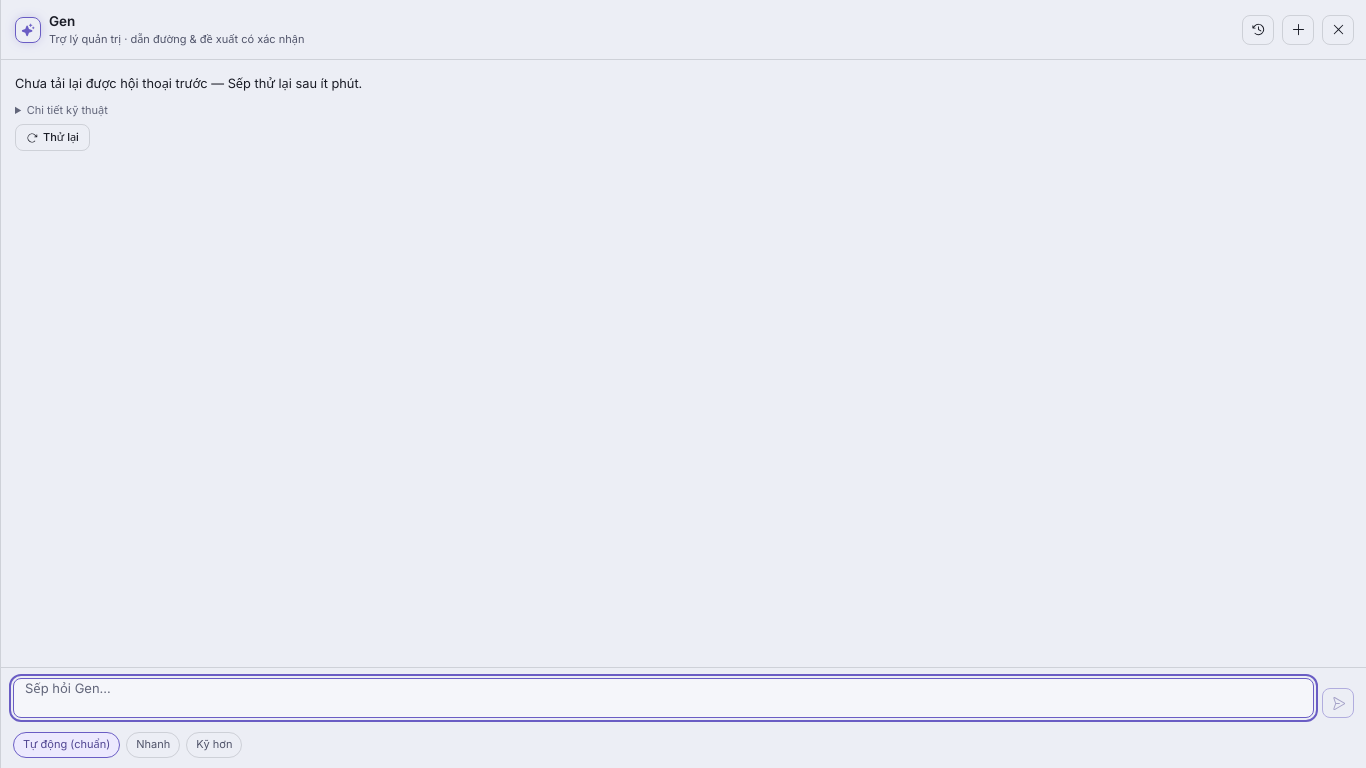
Test case: Giữ hội thoại qua tải lại trang (F-8a) › lỗi khác ⇒ câu thân thiện + Chi tiết kỹ thuật + Thử lại; câu hỏi mới không rơi vào hội thoại cũ
This screenshot has width=1366, height=768.
Expected: the text "Chưa tải lại được hội thoại trước — Sếp thử lại sau ít phút." is shown, [15, 74, 362, 93]
Expected: the heading "Chi tiết kỹ thuật" is shown, [15, 102, 108, 118]
Click the button "Thử lại": (52, 138) [15, 124, 90, 151]
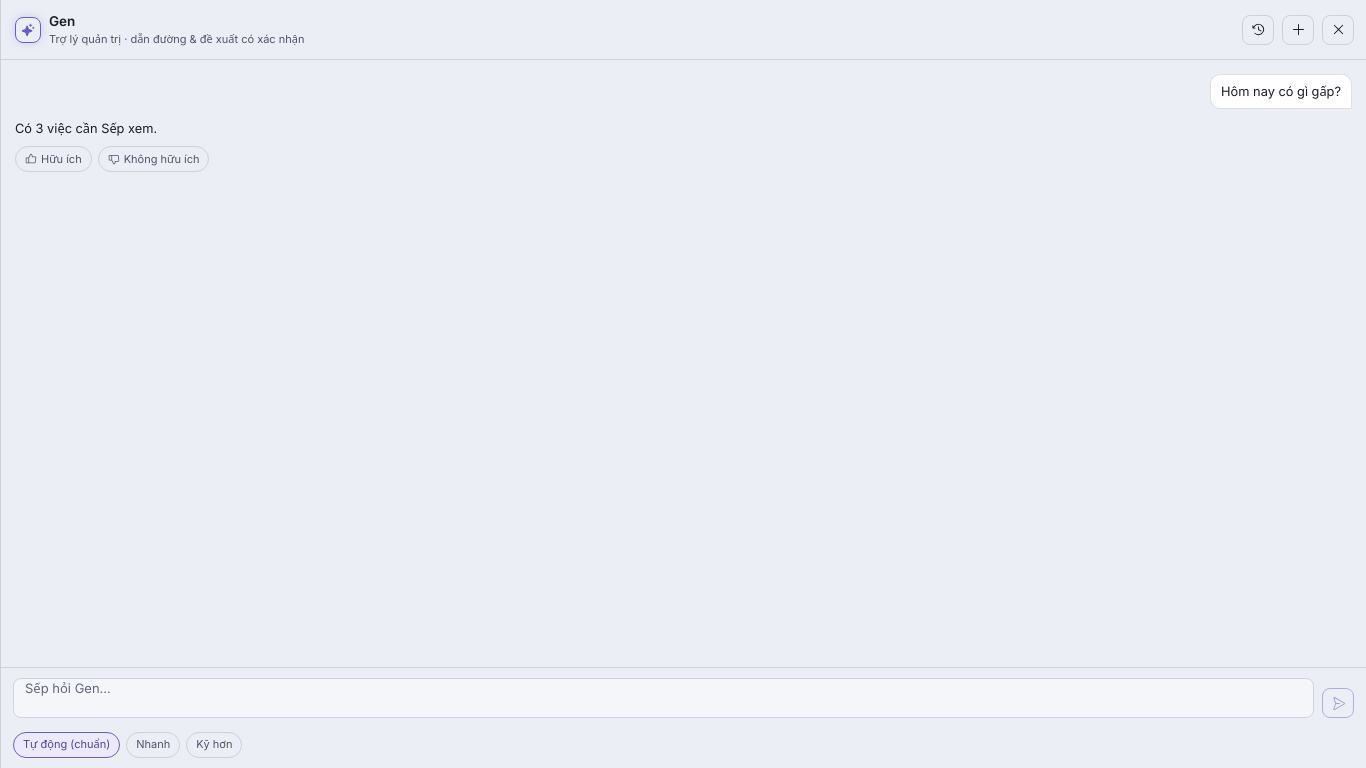
Expected: the text "Có 3 việc cần Sếp xem." is shown, [15, 119, 157, 138]
Expected: the text "Chưa tải lại được" is gone
